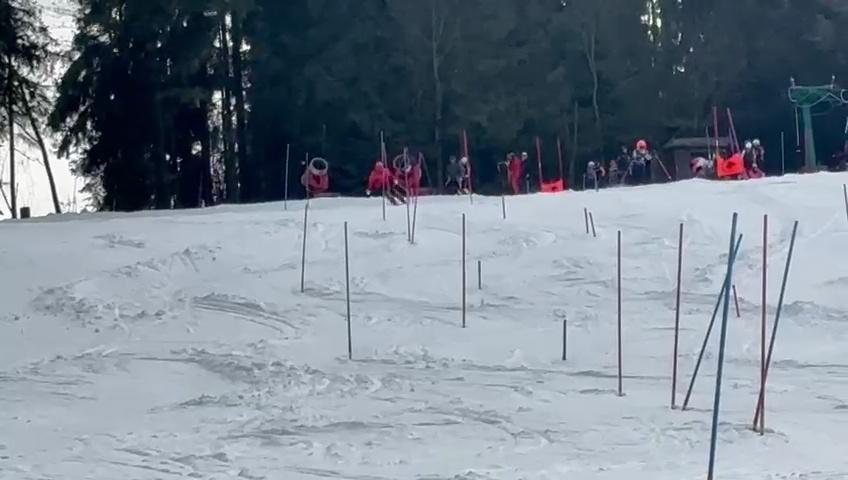gate: (683, 223, 746, 409), (701, 194, 741, 480), (757, 217, 805, 453), (602, 232, 631, 399), (337, 220, 370, 365), (668, 210, 681, 411), (402, 148, 424, 245), (726, 103, 750, 177), (546, 312, 578, 366), (297, 202, 313, 293), (459, 125, 476, 207), (458, 207, 469, 332), (473, 237, 493, 295), (530, 131, 545, 195), (281, 140, 292, 213), (379, 131, 388, 220), (553, 134, 567, 191), (710, 103, 719, 186), (583, 208, 598, 245), (494, 195, 510, 222)
